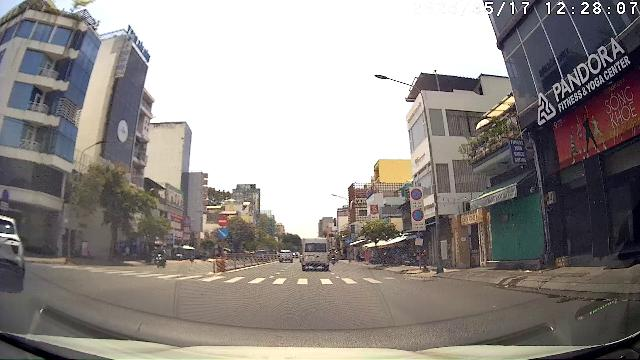130-cam-dung-va-do-xe: (410, 188, 422, 200)
131a-cam-do-xe: (412, 209, 424, 221)
